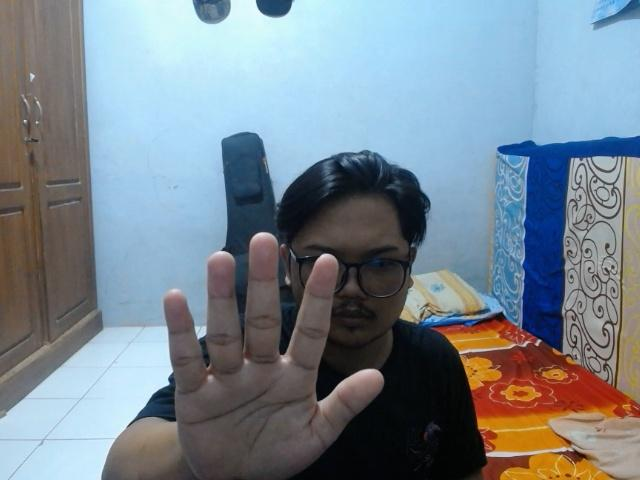Release: (154, 222, 390, 480)
